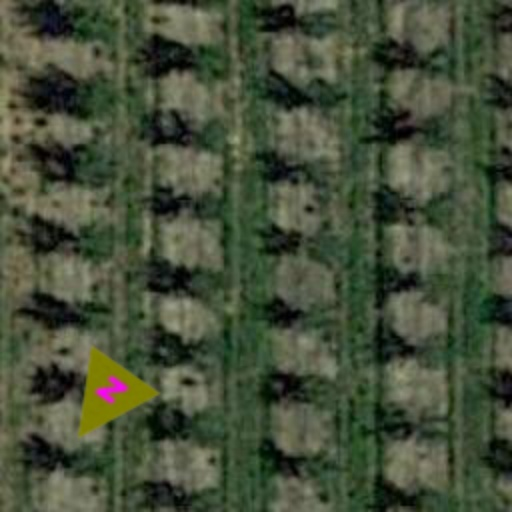triangle: (42, 344, 162, 464)
